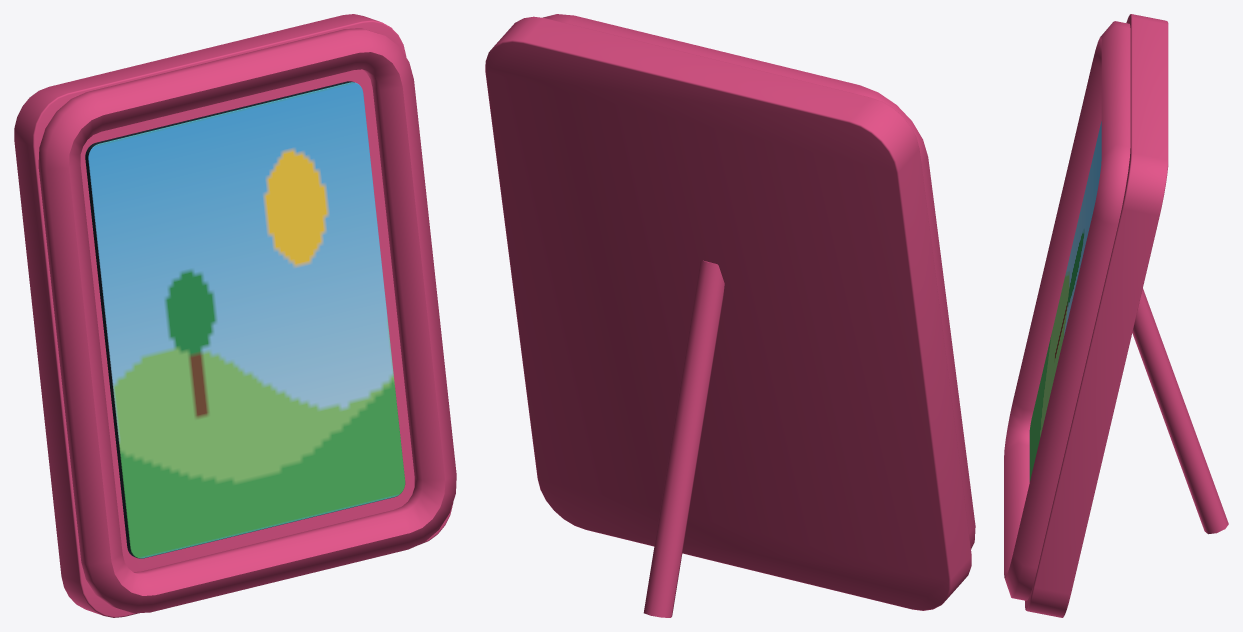
Rendered from porta_retrato_rosa.glb.
3 renders of one model, left to right at view 1: azimuth 30°, elevation 25°; view 2: azimuth 150°, elevation 25°; view 3: azimuth 270°, elevation 25°, orthographic. The views are drawn at different scales.
Visible parts, largest first — view 1: porta_retrato_rosa; view 2: porta_retrato_rosa; view 3: porta_retrato_rosa.
Boxes of the visible parts, <box> form: porta_retrato_rosa: <box>14,14,456,617</box>; porta_retrato_rosa: <box>485,14,975,617</box>; porta_retrato_rosa: <box>1004,14,1228,617</box>.
Size of the model in its own units: 0.19 by 0.2385 by 0.1054.
2 materials, 2 textured.
